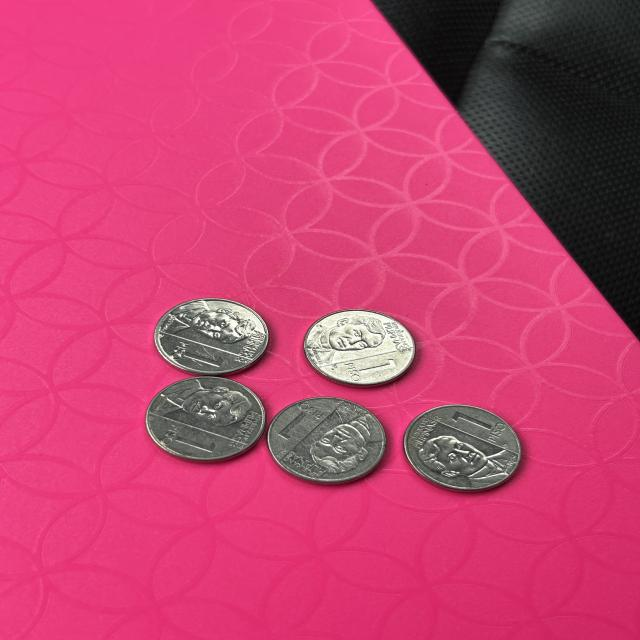1_New_Front: (446, 405, 511, 448), (162, 335, 226, 373), (156, 420, 216, 460), (277, 404, 330, 440), (338, 361, 409, 379)
